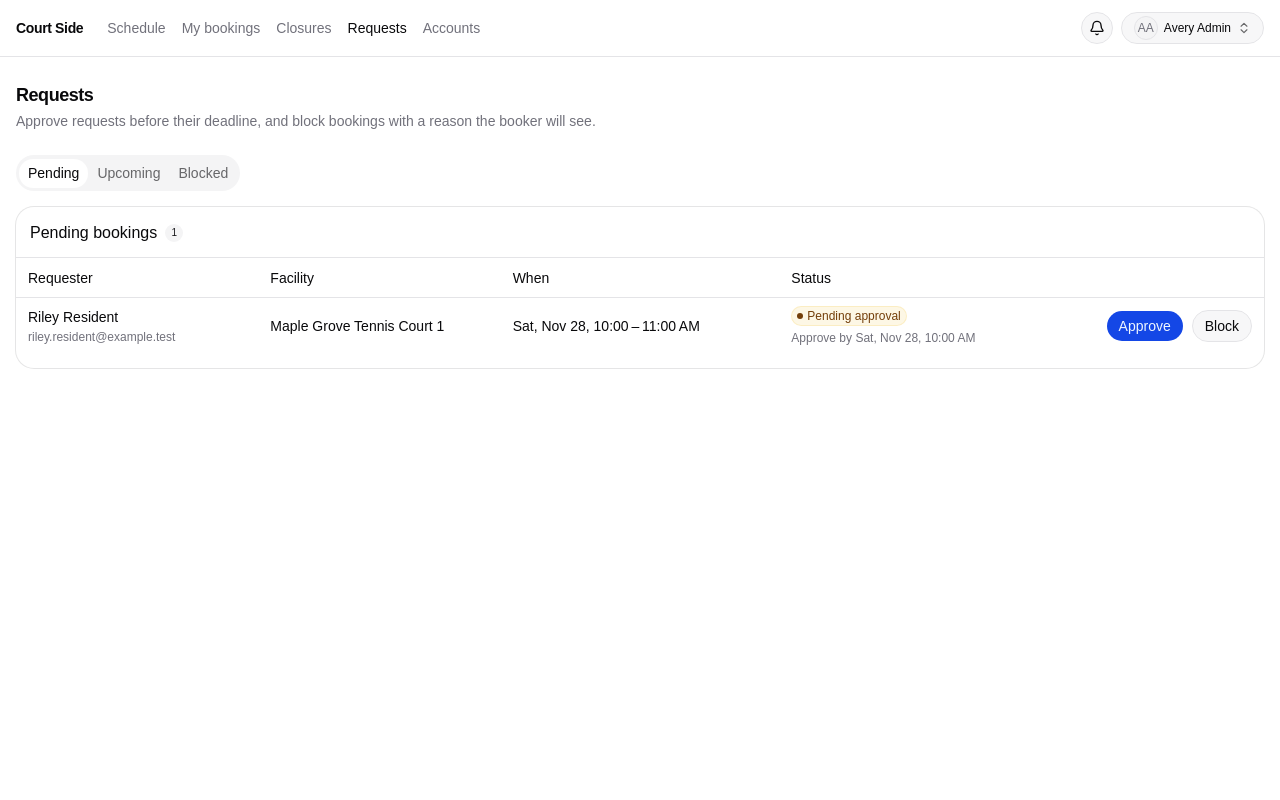
Test: Admin requests › requires a reason before blocking
Click the button with aria-label "Block Riley Resident": (1222, 326) [1192, 310, 1252, 342]
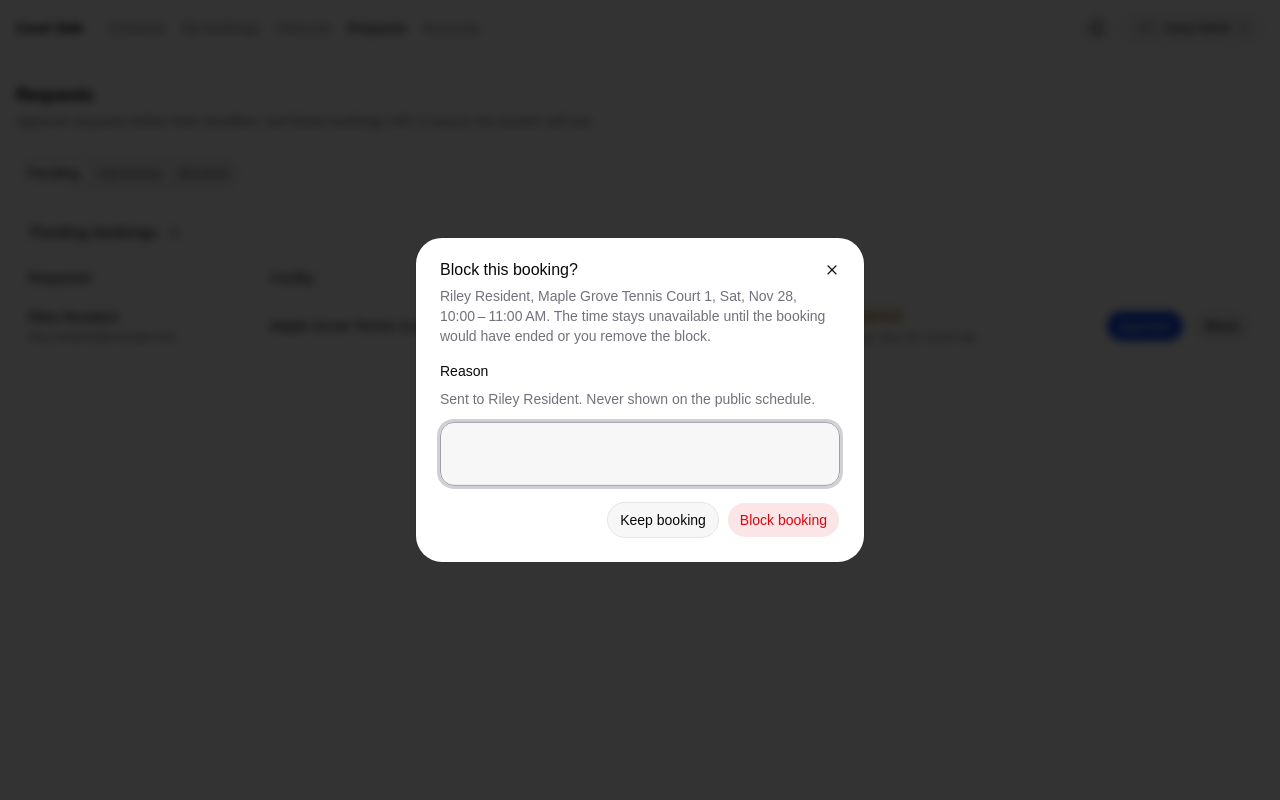
Click the button "Block booking": (783, 520) [727, 502, 840, 538]
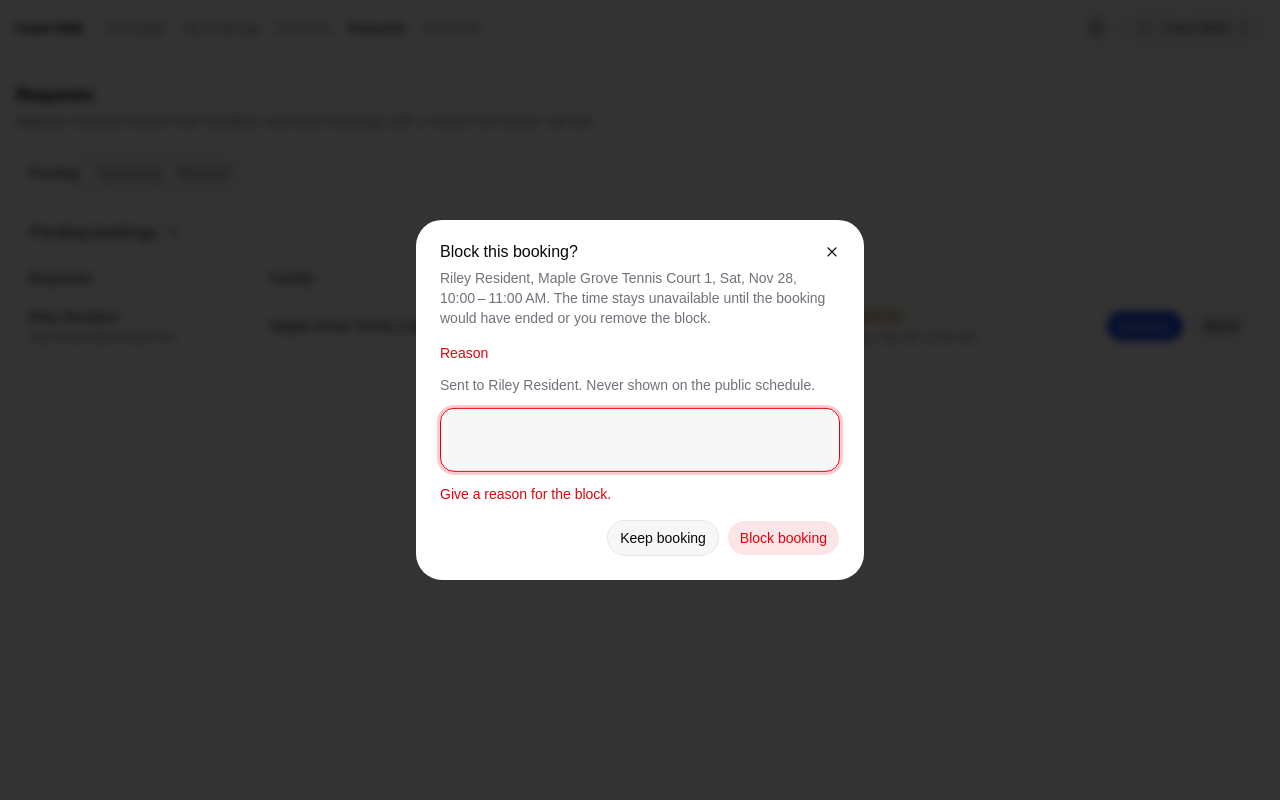
Expected: the text "Give a reason for the block." is shown, [440, 486, 611, 502]
In the text box labelled "Reason": (640, 440) [440, 408, 840, 472], type "League finals"
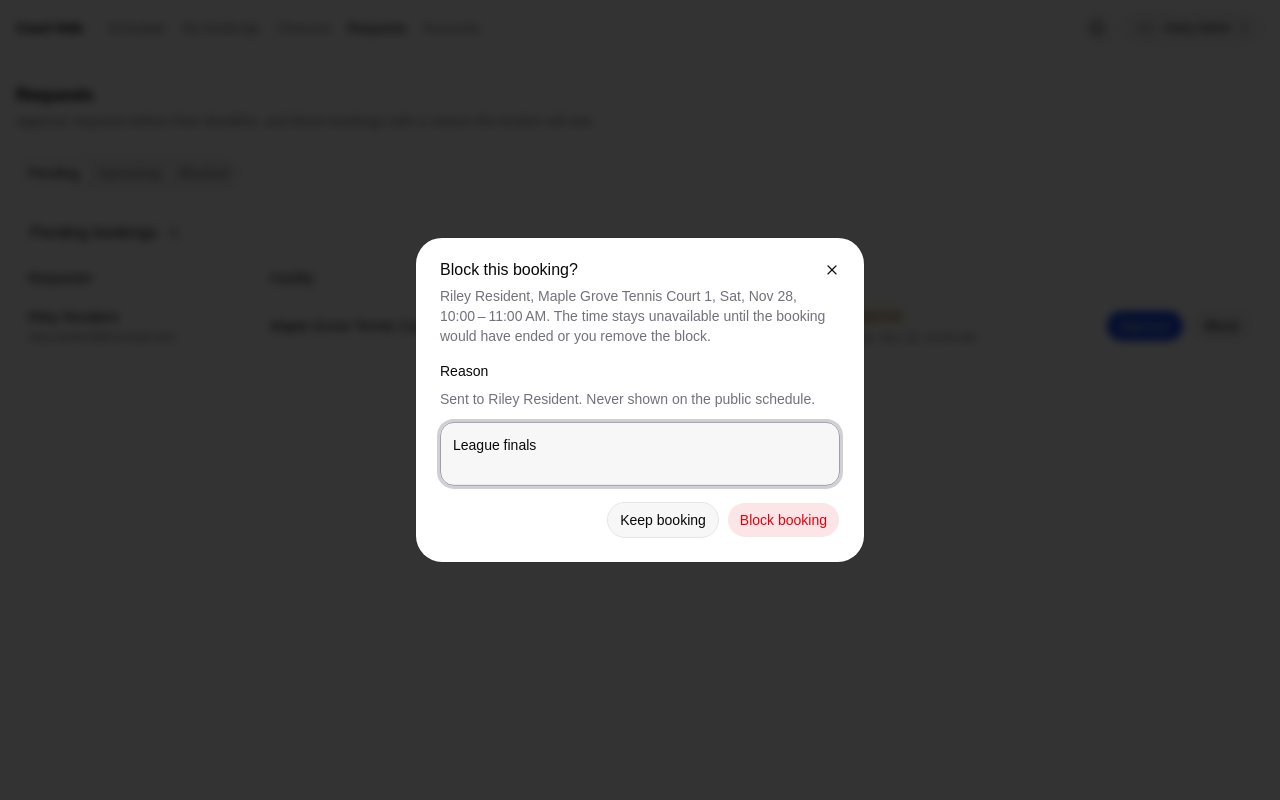
Click the button "Block booking": (783, 520) [727, 502, 840, 538]
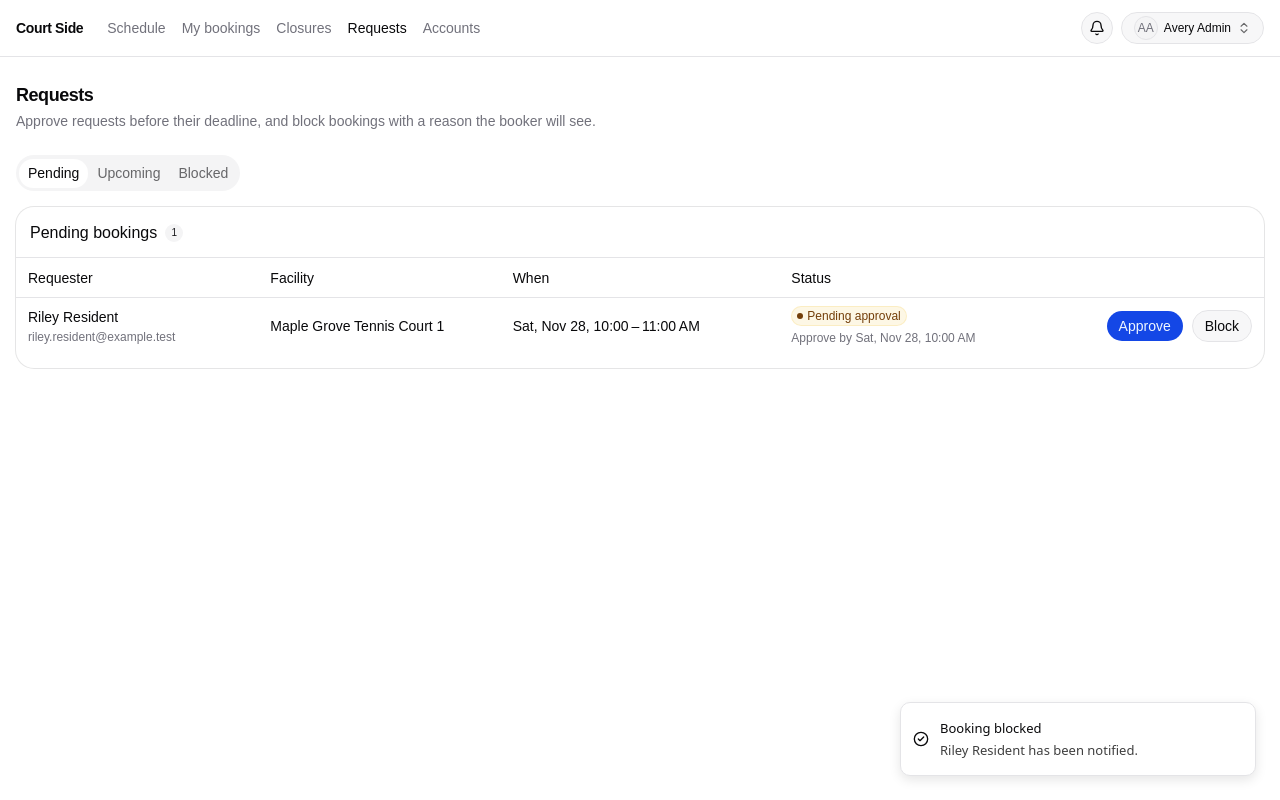
Expected: the text "Booking blocked" is shown, [940, 719, 1042, 737]
